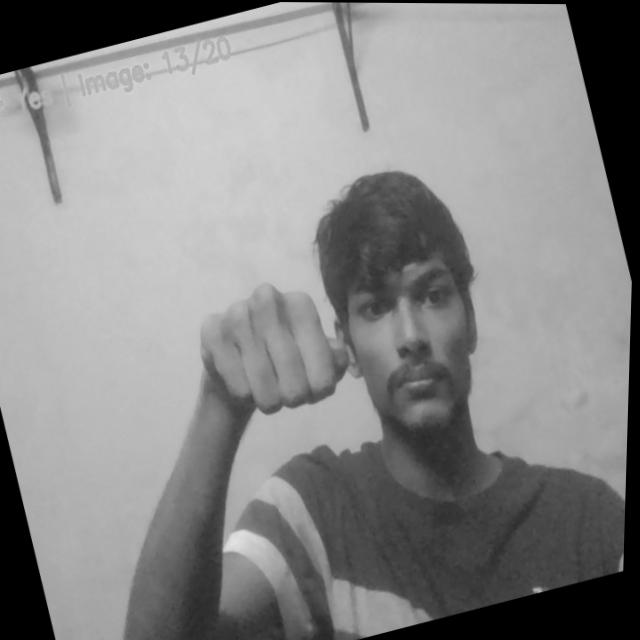Yes: (175, 259, 369, 444)
